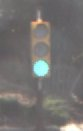Green: (28, 17, 54, 86)
